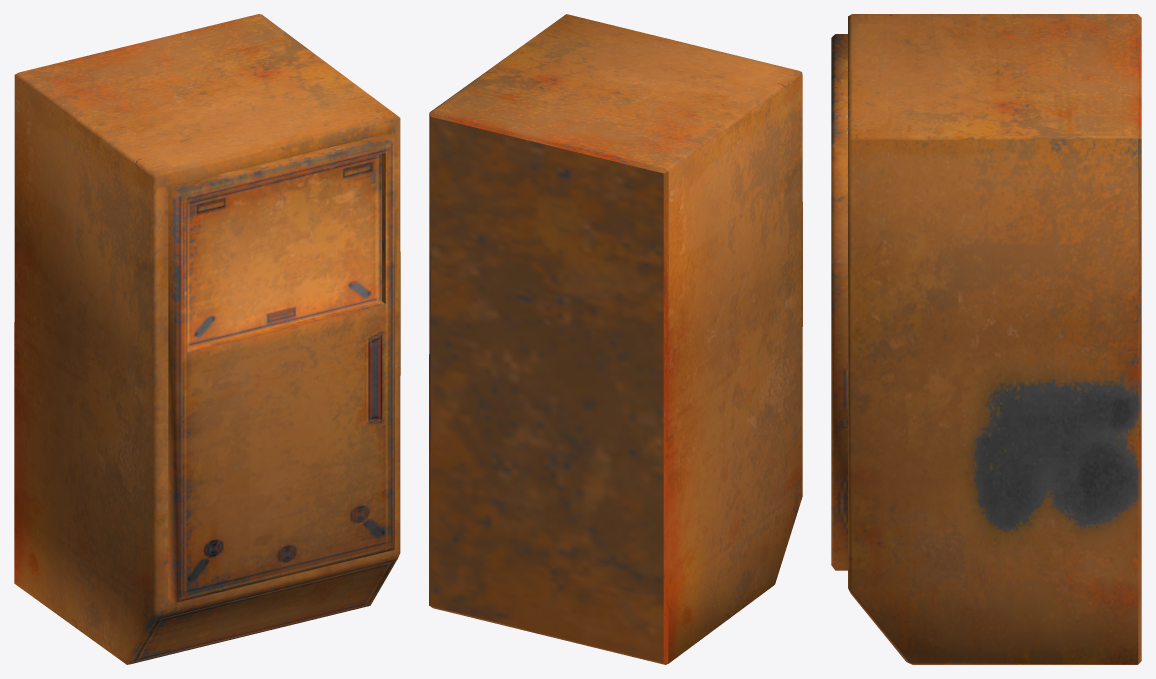
The model's file is 05_01_adon_box_large.DAE.
3 views of the same model, side by side, from view 1: azimuth 30°, elevation 25°; view 2: azimuth 150°, elevation 25°; view 3: azimuth 270°, elevation 25° (orthographic). The views are drawn at different scales.
Visible parts, largest first — view 1: boxlarge; view 2: boxlarge; view 3: boxlarge.
Part boxes in pixels (box(x1,y1,x2,y2)): boxlarge: box(14, 14, 400, 664); boxlarge: box(429, 14, 802, 664); boxlarge: box(831, 14, 1141, 664).
Size of the model in its own units: 0.7301 by 1.45 by 0.7676.
